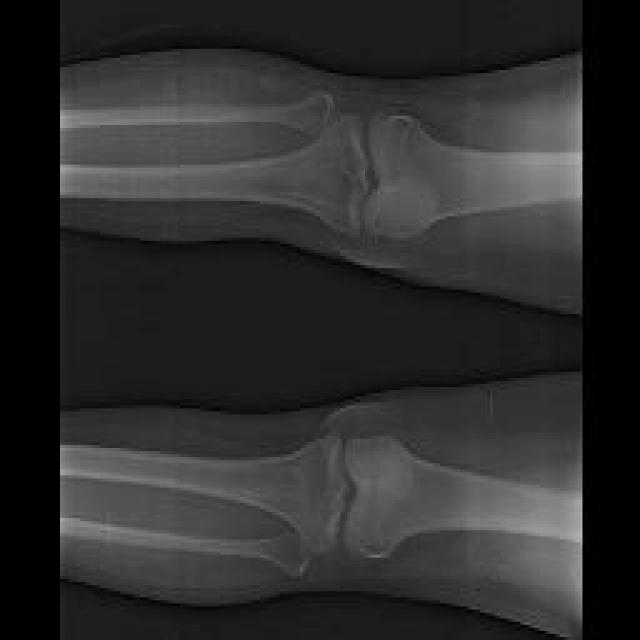normal: (57, 93, 580, 238), (54, 434, 580, 578)
